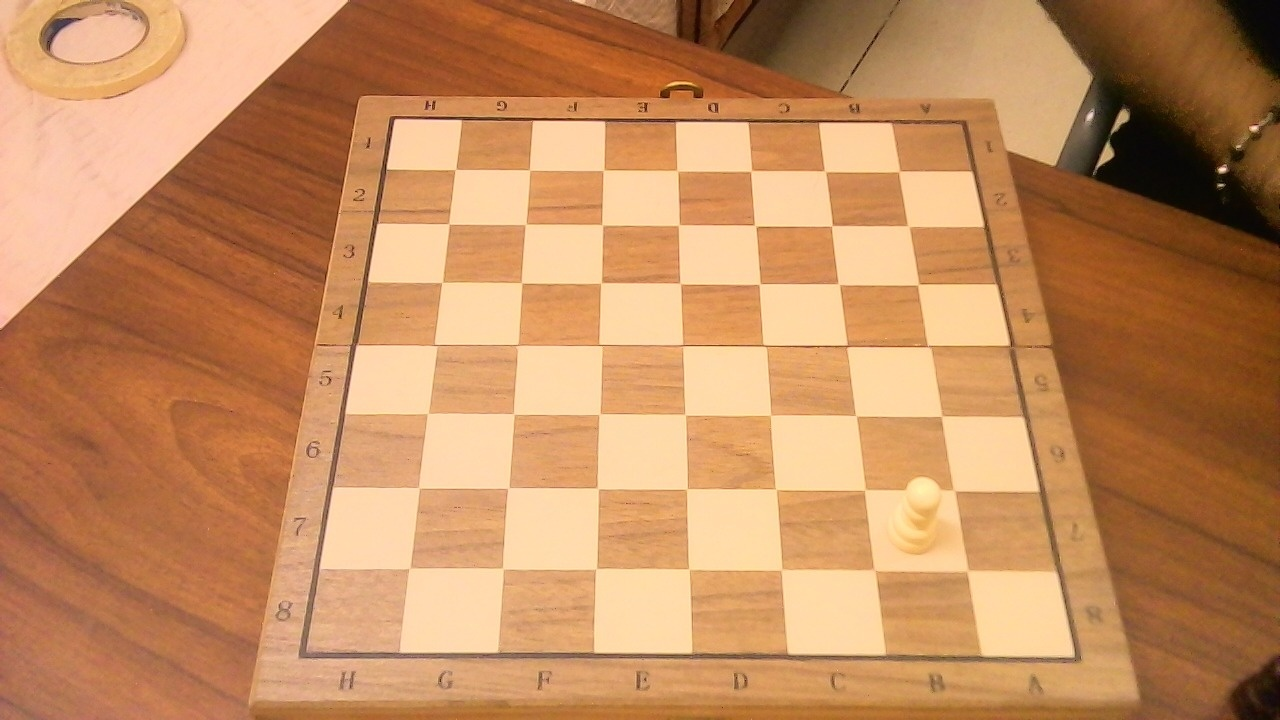P: (880, 467, 950, 560)
